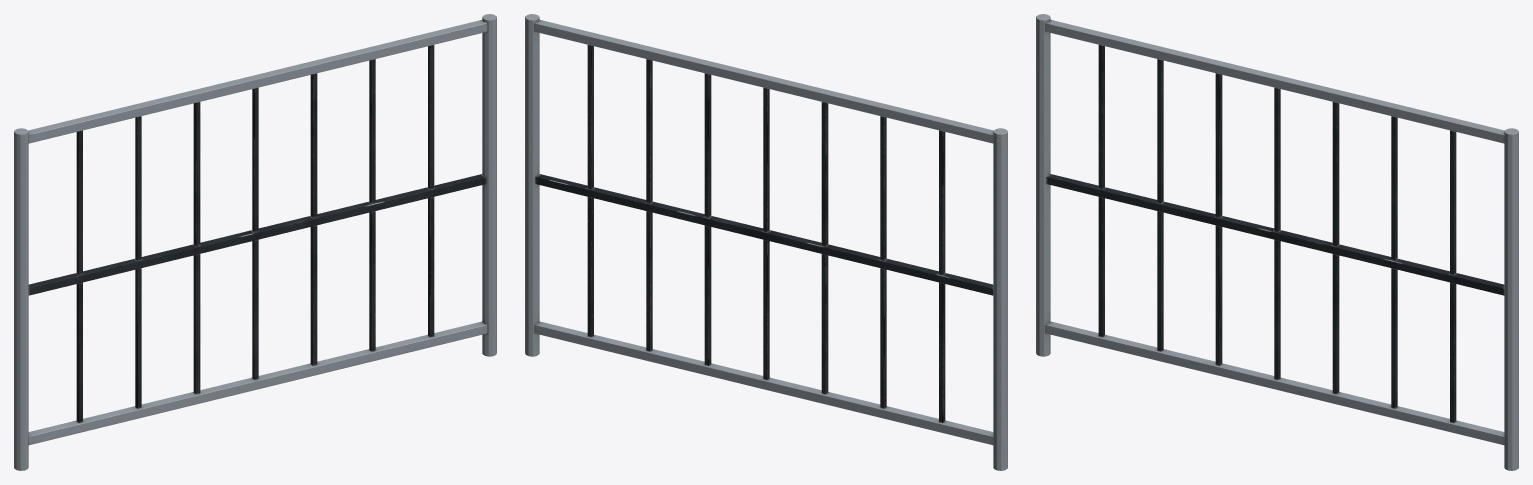
File: fence_chainlink.glb
The picture shows the model from 3 angles, left to right: view 1: azimuth 30°, elevation 25°; view 2: azimuth 150°, elevation 25°; view 3: azimuth 330°, elevation 25°; orthographic projection.
Parts seen in each view (by area): view 1: FenceChainlink; view 2: FenceChainlink; view 3: FenceChainlink.
Boxes of the visible parts, x1,y1,x2,y2 form: FenceChainlink: (14, 14, 496, 470); FenceChainlink: (525, 14, 1007, 470); FenceChainlink: (1036, 14, 1518, 470).
Size of the model in its own units: 3.29 by 2.2 by 0.0874.
1 material, 1 textured.
